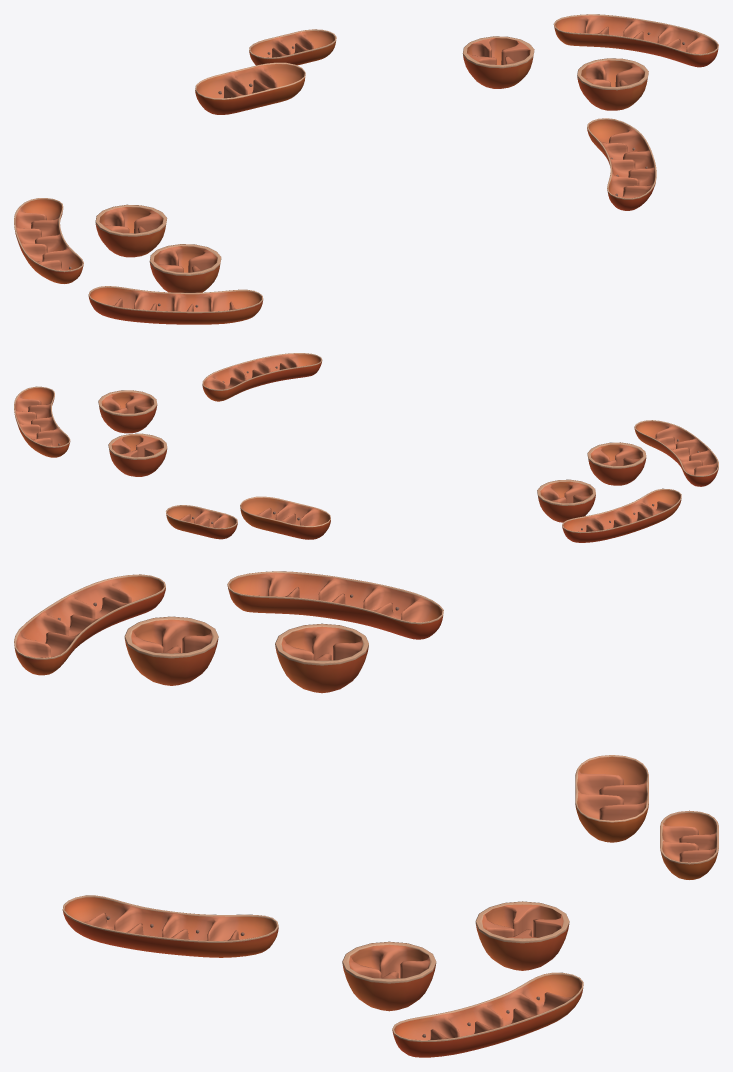
The model's file is Mitocondria.fbx.
The picture shows the model from 3 angles, top to bottom: view 1: azimuth 30°, elevation 25°; view 2: azimuth 150°, elevation 25°; view 3: azimuth 270°, elevation 25°; orthographic projection. The views are drawn at different scales.
Visible parts, largest first — view 1: pSphere79; view 2: pSphere79; view 3: pSphere79.
Boxes of the visible parts, left/top/right/bottom form: pSphere79: left=14, top=14, right=718, bottom=324; pSphere79: left=14, top=353, right=718, bottom=542; pSphere79: left=14, top=571, right=718, bottom=1057.
Size of the model in its own units: 21.65 by 1.03 by 13.73.
Materials: 3 (3 with a texture image).
